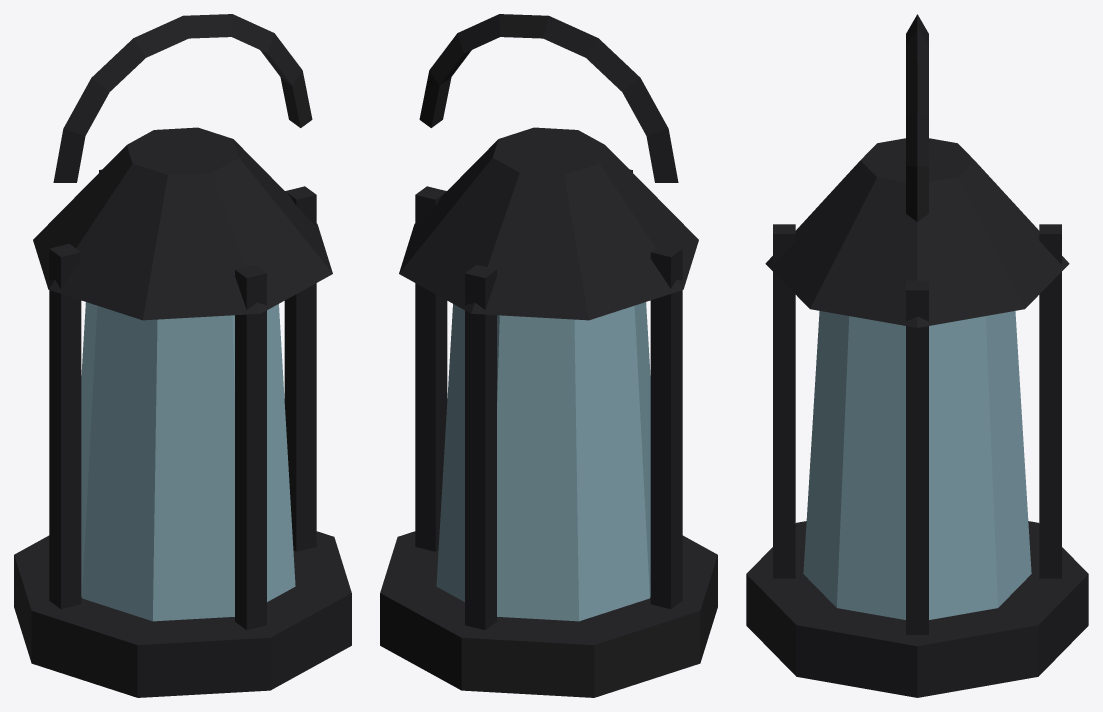
The model's file is SM_Lantern.obj.
3 renders of one model, left to right at view 1: azimuth 30°, elevation 25°; view 2: azimuth 150°, elevation 25°; view 3: azimuth 270°, elevation 25°, orthographic. The views are drawn at different scales.
Parts seen in each view (by area): view 1: SM_Lantern; view 2: SM_Lantern; view 3: SM_Lantern.
Boxes of the visible parts, x1,y1,x2,y2 form: SM_Lantern: [14, 14, 351, 697]; SM_Lantern: [380, 14, 717, 697]; SM_Lantern: [746, 14, 1088, 697].
Bounding box in the file's own units: 0.18 × 0.347 × 0.18.
